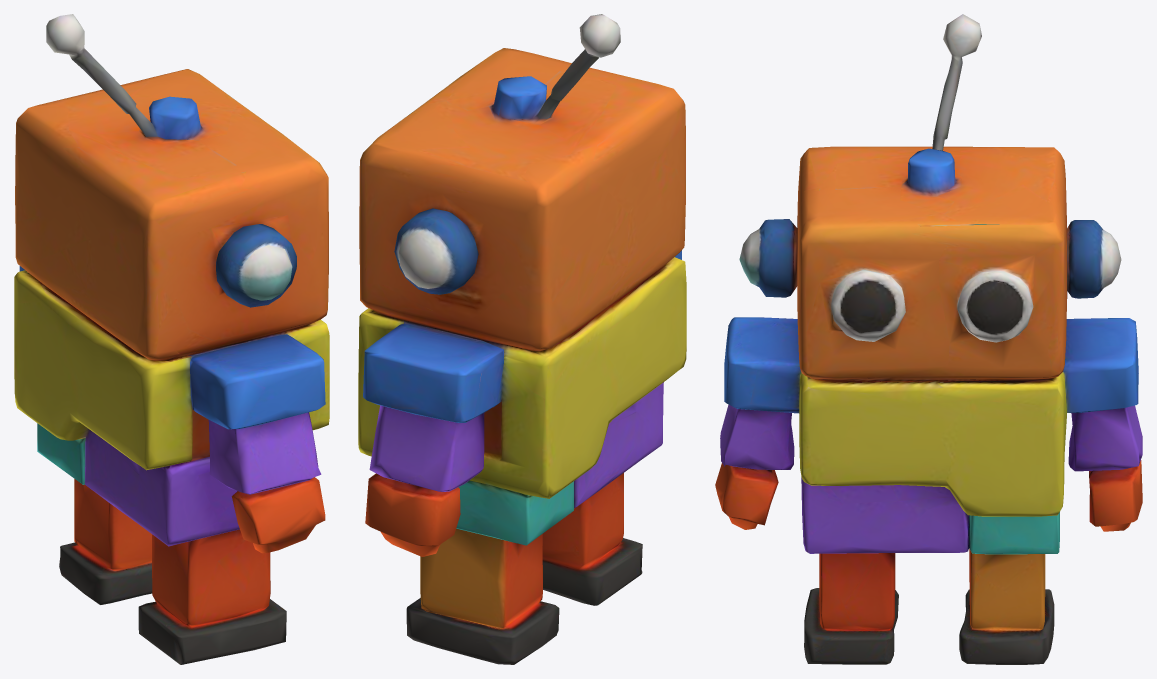
The model's file is hero-robot.glb.
3 views of the same model, side by side, from view 1: azimuth 30°, elevation 25°; view 2: azimuth 150°, elevation 25°; view 3: azimuth 270°, elevation 25° (orthographic). The views are drawn at different scales.
Visible parts, largest first — view 1: tripo_node_4b66bae2-be55-4dbd-840f-c578f39992d6; view 2: tripo_node_4b66bae2-be55-4dbd-840f-c578f39992d6; view 3: tripo_node_4b66bae2-be55-4dbd-840f-c578f39992d6.
Part boxes in pixels (x1,y1,x2,y2): tripo_node_4b66bae2-be55-4dbd-840f-c578f39992d6: (14, 14, 329, 664); tripo_node_4b66bae2-be55-4dbd-840f-c578f39992d6: (358, 14, 686, 664); tripo_node_4b66bae2-be55-4dbd-840f-c578f39992d6: (715, 14, 1142, 664).
Bounding box in the file's own units: 0.3771 × 1 × 0.6647.
Materials: 1 (1 with a texture image).
